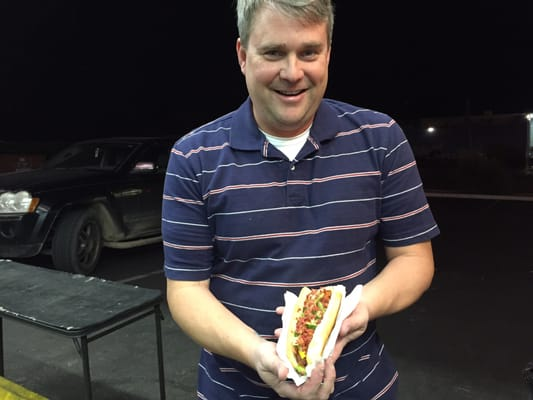burger: (277, 285, 346, 385)
